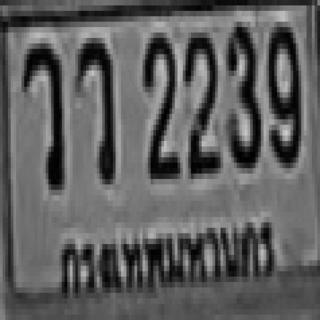A37: (73, 32, 113, 179), (22, 38, 62, 184)
N02: (142, 27, 178, 174), (183, 27, 218, 168)
N03: (226, 22, 258, 163)
N09: (266, 22, 298, 163)
